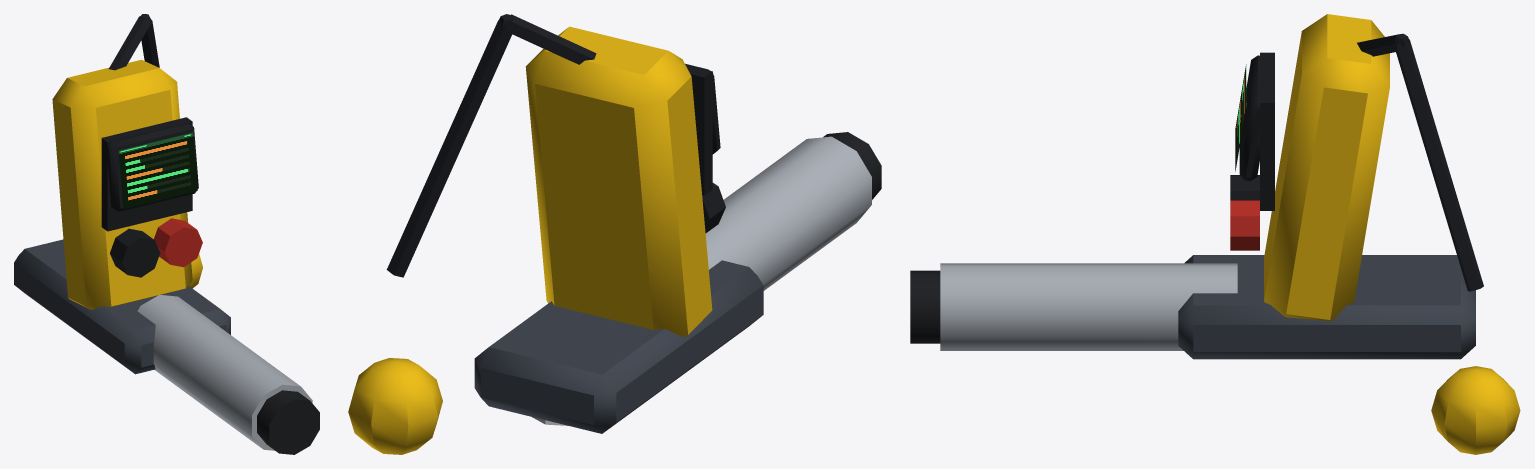
File: sciinstrument_geiger_counter.glb
The picture shows the model from 3 angles, left to right: view 1: azimuth 30°, elevation 25°; view 2: azimuth 150°, elevation 25°; view 3: azimuth 270°, elevation 25°; orthographic projection. The views are drawn at different scales.
Visible parts, largest first — view 1: sciinstrument_geiger_counter; view 2: sciinstrument_geiger_counter; view 3: sciinstrument_geiger_counter.
Part boxes in pixels (left/top/right/bottom): sciinstrument_geiger_counter: left=14, top=14, right=319, bottom=454; sciinstrument_geiger_counter: left=348, top=14, right=881, bottom=454; sciinstrument_geiger_counter: left=910, top=14, right=1520, bottom=454.
Bounding box in the file's own units: 0.18 × 0.286 × 0.41.
8 materials, 1 textured.
